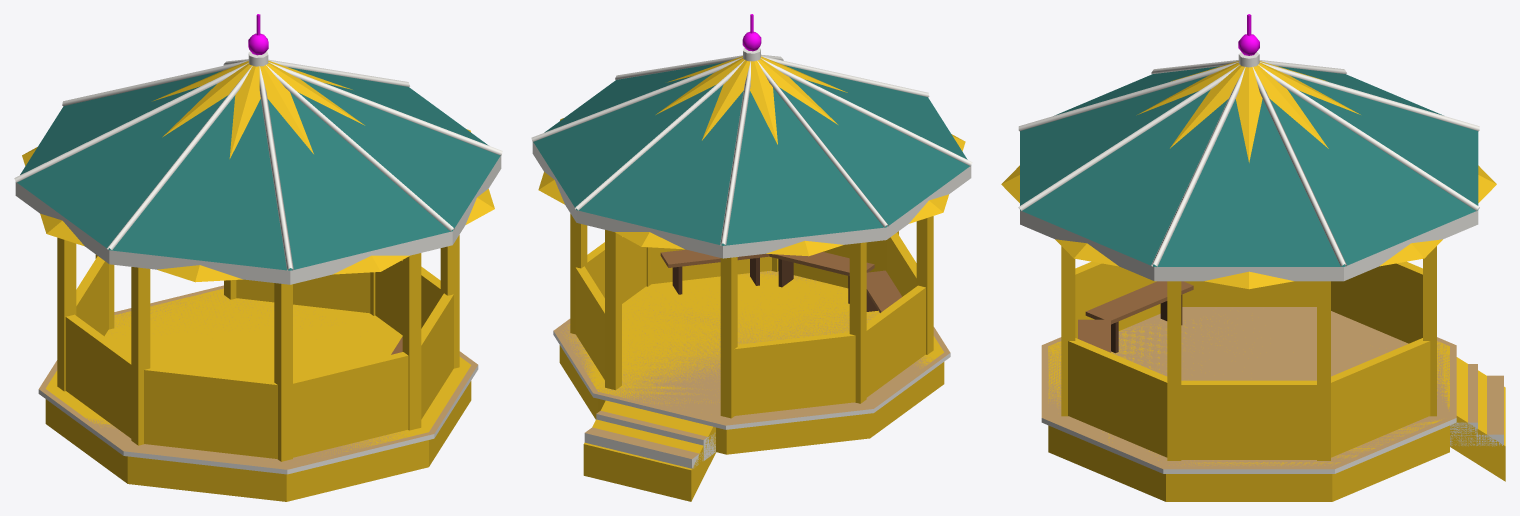
File: lm_gazebo.glb
The picture shows the model from 3 angles, left to right: view 1: azimuth 30°, elevation 25°; view 2: azimuth 150°, elevation 25°; view 3: azimuth 270°, elevation 25°; orthographic projection. The views are drawn at different scales.
Parts seen in each view (by area): view 1: lm_gazebo__col, lm_gazebo__shell; view 2: lm_gazebo__shell, lm_gazebo__col; view 3: lm_gazebo__shell, lm_gazebo__col.
Part boxes in pixels (box(x1,y1,x2,y2)): lm_gazebo__col: box(22, 60, 494, 501); lm_gazebo__shell: box(14, 14, 502, 474); lm_gazebo__shell: box(531, 14, 972, 468); lm_gazebo__col: box(538, 55, 965, 501); lm_gazebo__shell: box(1018, 14, 1503, 473); lm_gazebo__col: box(1001, 61, 1505, 501).
Bounding box in the file's own units: 5.7 × 5.55 × 5.8.
Materials: 1 (1 with a texture image).
